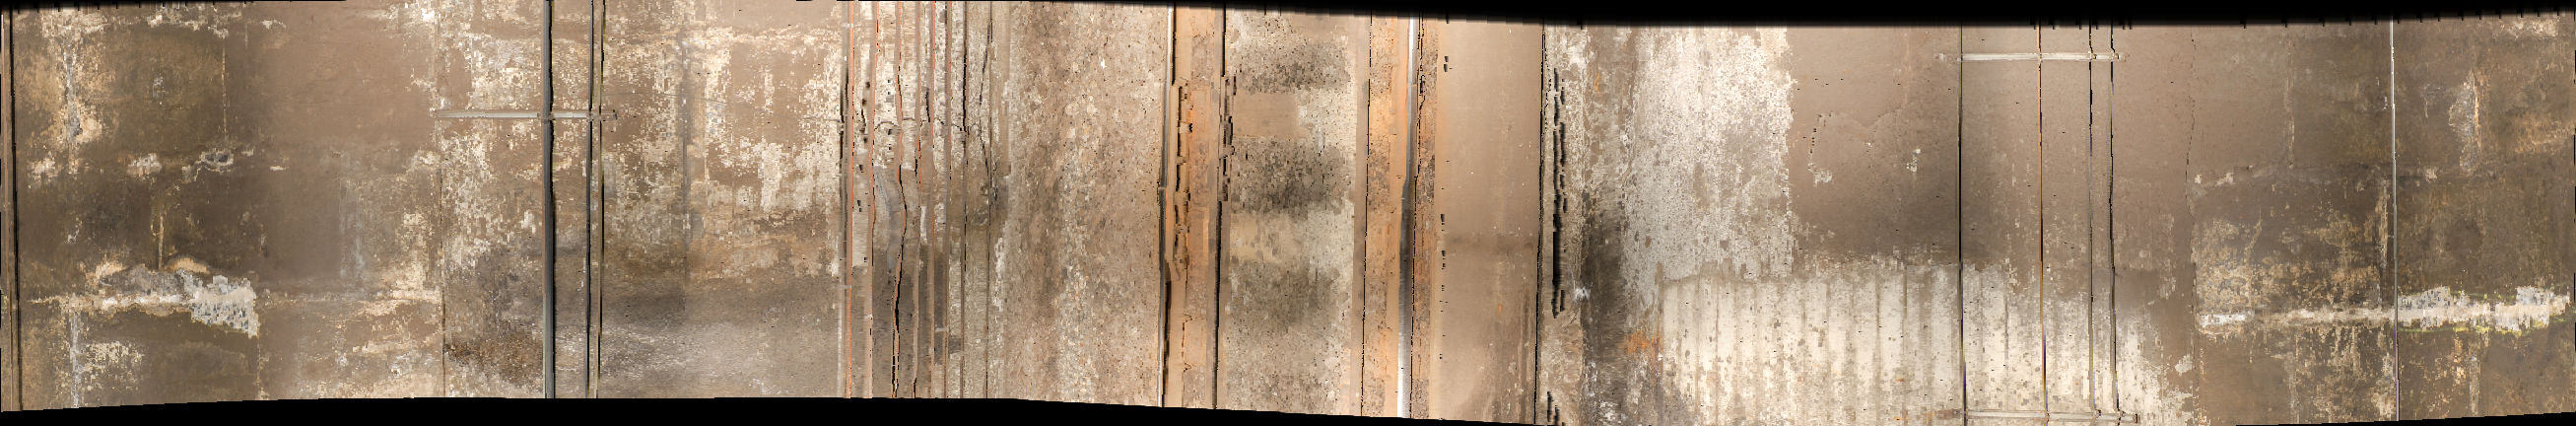pipes: (838, 2, 1028, 426), (1948, 20, 2129, 426), (539, 2, 614, 411), (2377, 15, 2405, 426)
tracks: (1162, 12, 1559, 426)
